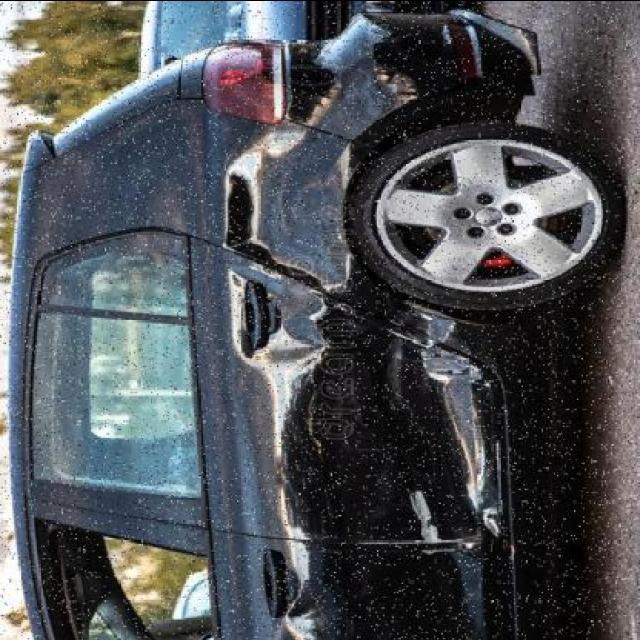doorouter-dent: (208, 277, 498, 539), (218, 540, 500, 640)
quaterpanel-dent: (189, 105, 393, 263)
